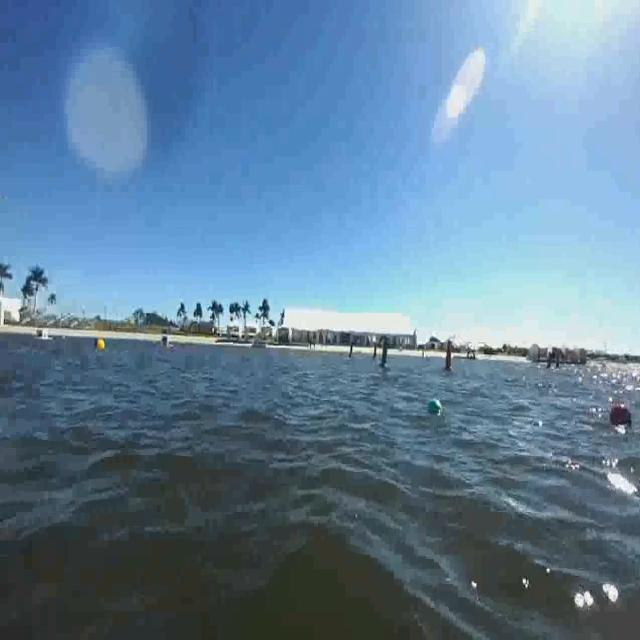green-buoy: (428, 398, 440, 414)
green-column-buoy: (379, 336, 391, 368)
red-buoy: (610, 399, 632, 429)
red-column-buoy: (444, 341, 456, 374)
yellow-buoy: (98, 338, 106, 353)
